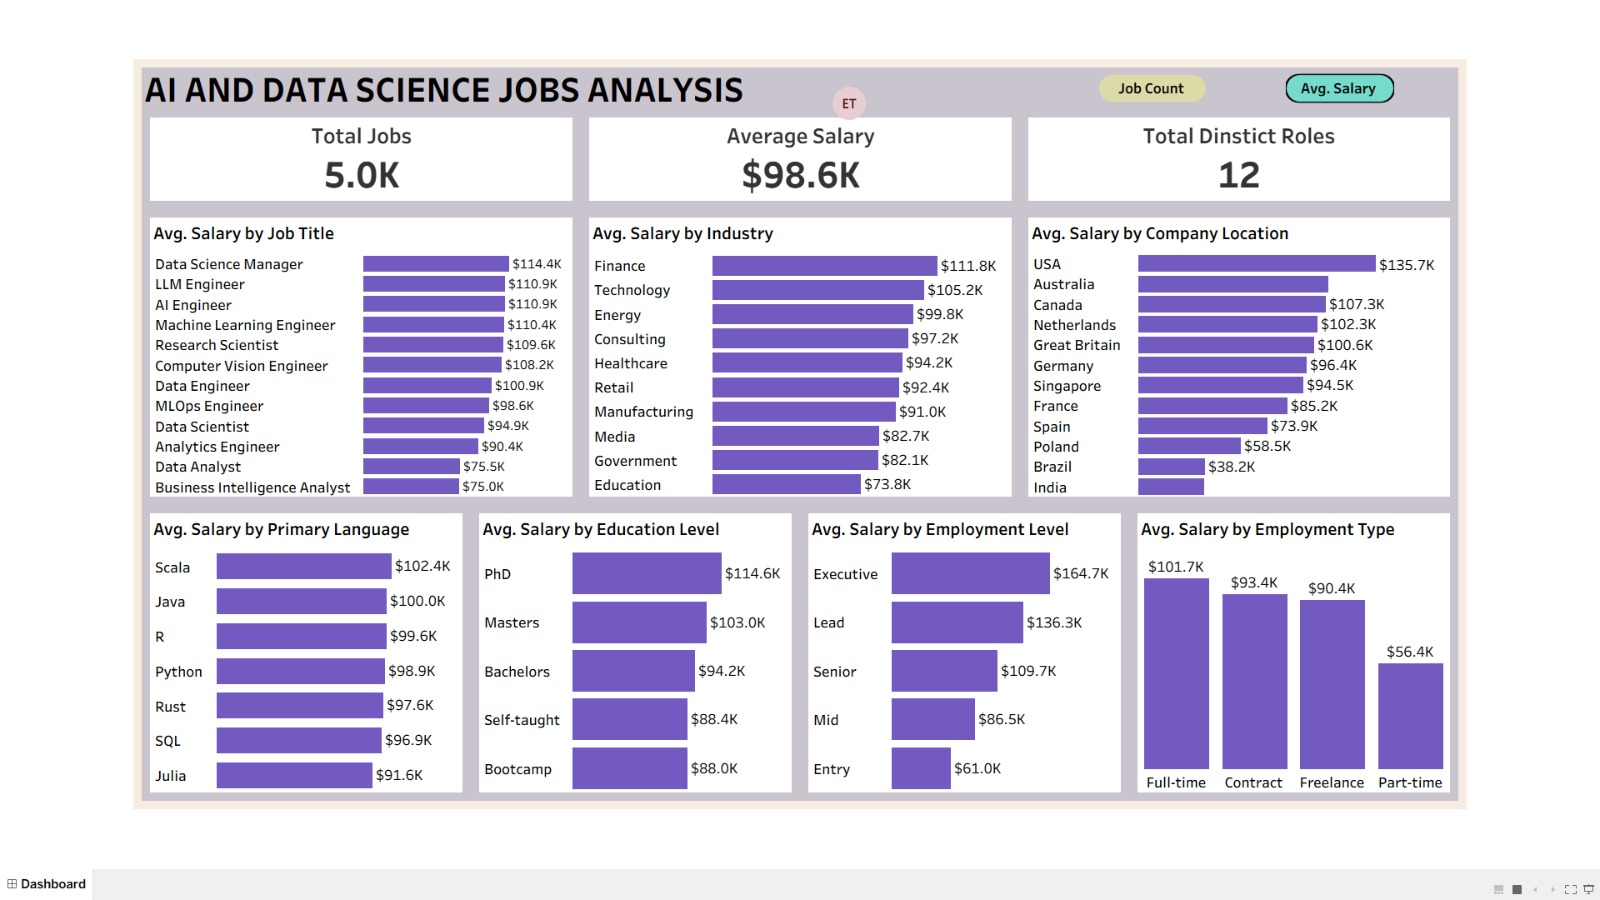

The dashboard page shown, as its layout file describes it:
{"tool":"tableau","page":{"name":"Dashboard","canvas":[1600,900],"ordinal":0},"visuals":[{"type":"text","box":[10,10,1100,44]},{"type":"worksheet","title":"Buttons","mark":"Shape","cols":["Calculation_1274920644902921","Calculation_1274920644902921"],"box":[1110,10,450,50]},{"type":"worksheet","title":"Job KPI","mark":"Automatic","box":[20,70,507,100]},{"type":"worksheet","title":"Salary KPI","mark":"Automatic","box":[547,70,507,100]},{"type":"worksheet","title":"Job Titles KPI","mark":"Automatic","box":[1074,70,506,100]},{"type":"worksheet","title":"Job Title","mark":"Automatic","rows":["job_title"],"cols":["Calculation_1274920629760001"],"box":[20,190,507,335]},{"type":"worksheet","title":"Industry","mark":"Automatic","rows":["industry"],"cols":["Calculation_1274920629760001"],"box":[547,190,507,335]},{"type":"worksheet","title":"Comp Loc","mark":"Automatic","rows":["company_loc"],"cols":["Calculation_1274920629760001"],"box":[1074,190,506,335]},{"type":"worksheet","title":"Primary Language","mark":"Automatic","rows":["primary_language"],"cols":["Calculation_1274920629760001"],"box":[20,545,375,335]},{"type":"worksheet","title":"Education Level","mark":"Automatic","rows":["Calculation_1274920629760001"],"cols":["education_level"],"box":[415,545,375,335]},{"type":"worksheet","title":"Experience","mark":"Automatic","rows":["Calculation_1274920629760001"],"cols":["experience_level"],"box":[810,545,375,335]},{"type":"worksheet","title":"Employment Type","mark":"Automatic","rows":["Calculation_1274920629760001"],"cols":["employment_type"],"box":[1205,545,375,335]}]}

Visuals, with their boxes on the page's 1600x900 design canvas (x1, y1, x2, y2). These are canvas units, not pixel positions in the 1600x900 screenshot, which may show the page scaled, cropped or inside an application window:
text: rect(10, 10, 1110, 54)
"Buttons" worksheet (Shape marks): rect(1110, 10, 1560, 60)
"Job KPI" worksheet: rect(20, 70, 527, 170)
"Salary KPI" worksheet: rect(547, 70, 1054, 170)
"Job Titles KPI" worksheet: rect(1074, 70, 1580, 170)
"Job Title" worksheet: rect(20, 190, 527, 525)
"Industry" worksheet: rect(547, 190, 1054, 525)
"Comp Loc" worksheet: rect(1074, 190, 1580, 525)
"Primary Language" worksheet: rect(20, 545, 395, 880)
"Education Level" worksheet: rect(415, 545, 790, 880)
"Experience" worksheet: rect(810, 545, 1185, 880)
"Employment Type" worksheet: rect(1205, 545, 1580, 880)
